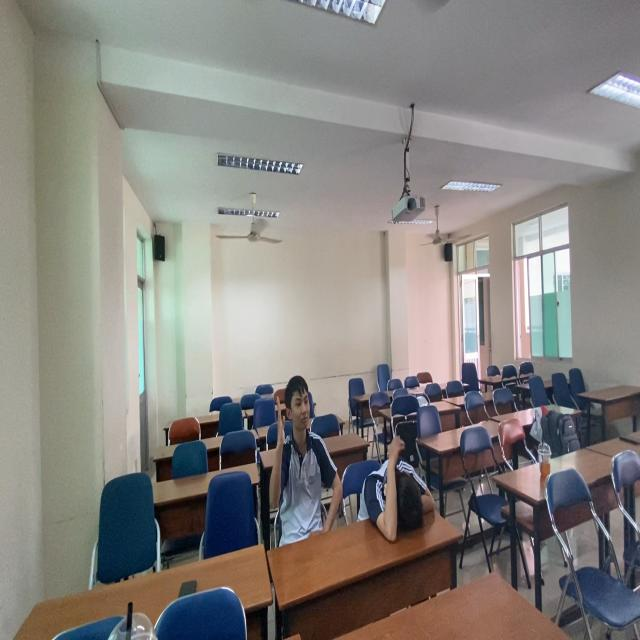raise_hand: (267, 373, 346, 544)
sleep: (363, 434, 439, 544)
